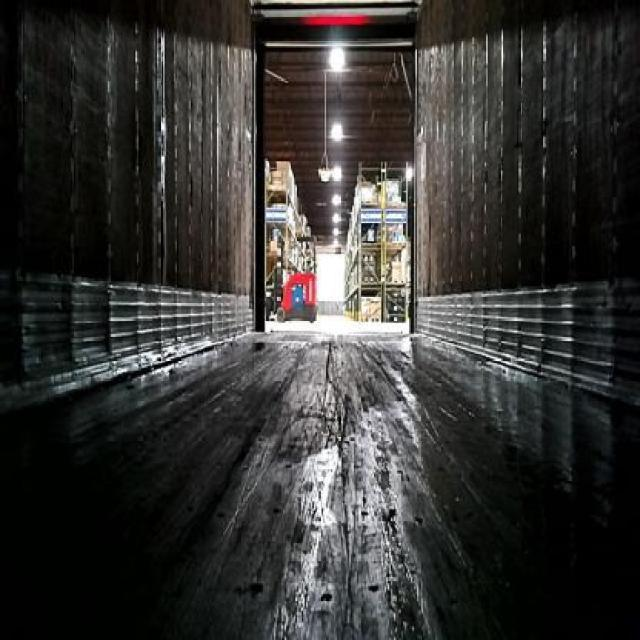forklift: (274, 257, 317, 322)
